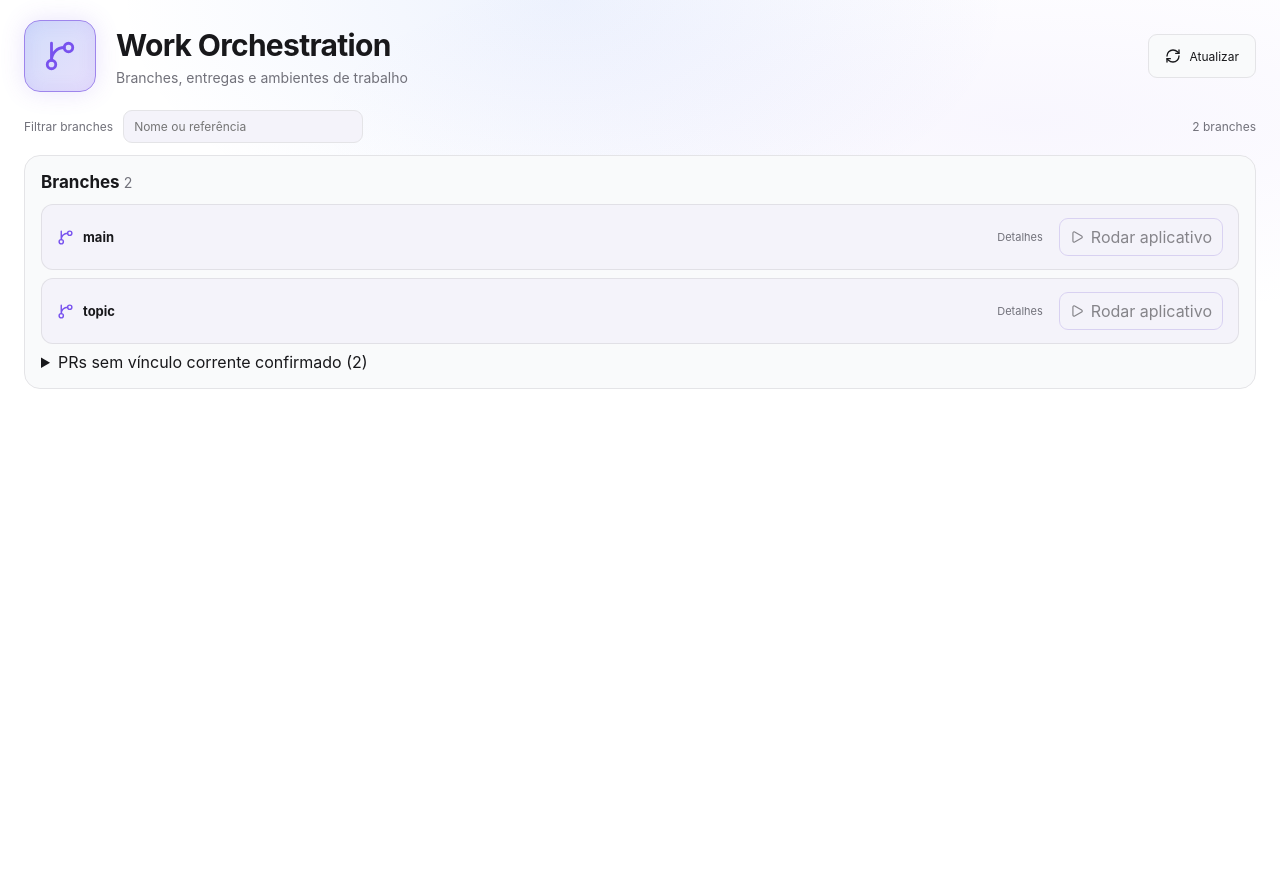
Test: composes catalog and renderer: main receives extinct origins, closed #32 is not integrated and cards retain both directions
Click the text "main".
click(98, 237)  # box [83,229,114,245]
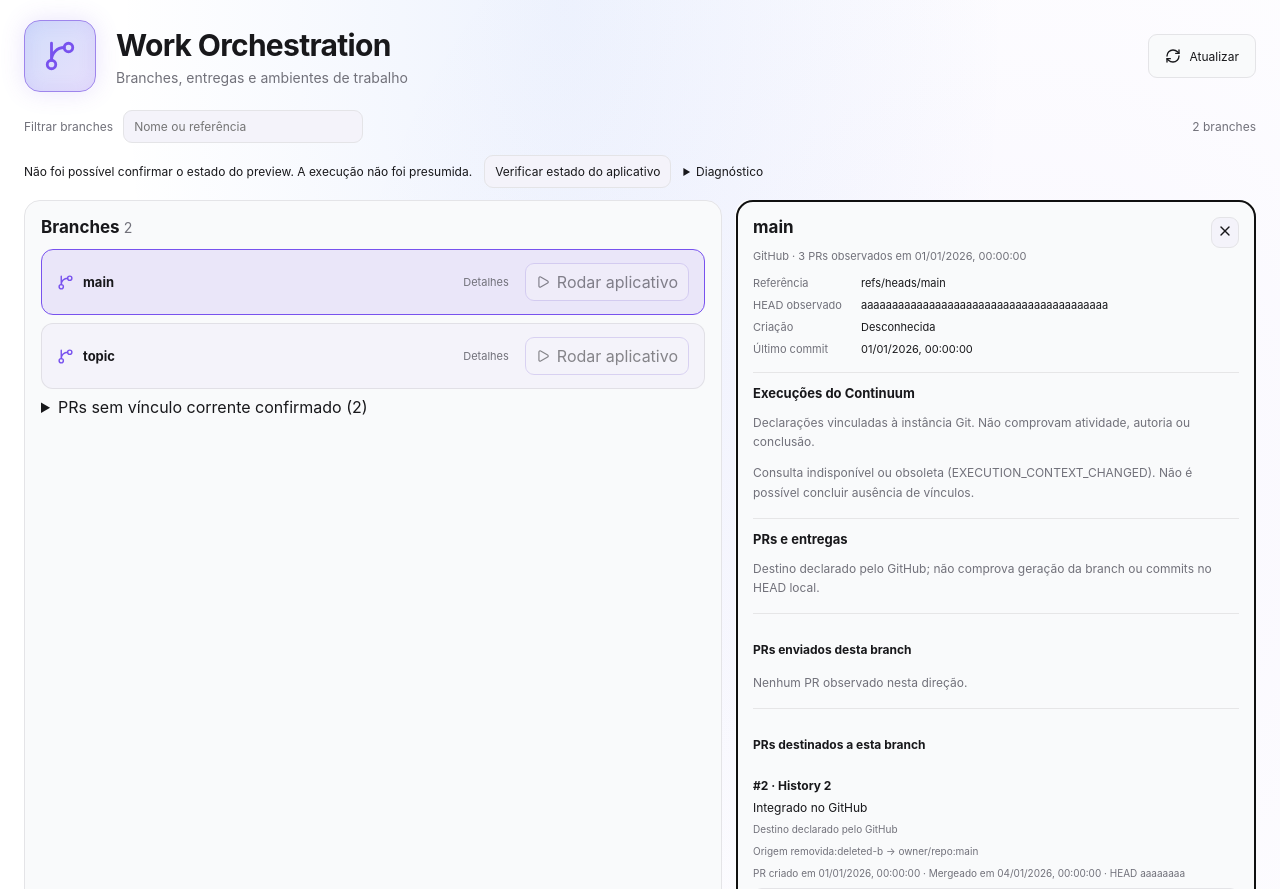
expect the text "Integrado no GitHub" is shown 2 times: met
expect the text "Mergeado em" is shown 2 times: met
expect the text "Nenhum PR observado nesta direção." is shown: met, box [753,675,967,690]
Click the text "topic".
click(99, 356)  # box [83,348,115,364]
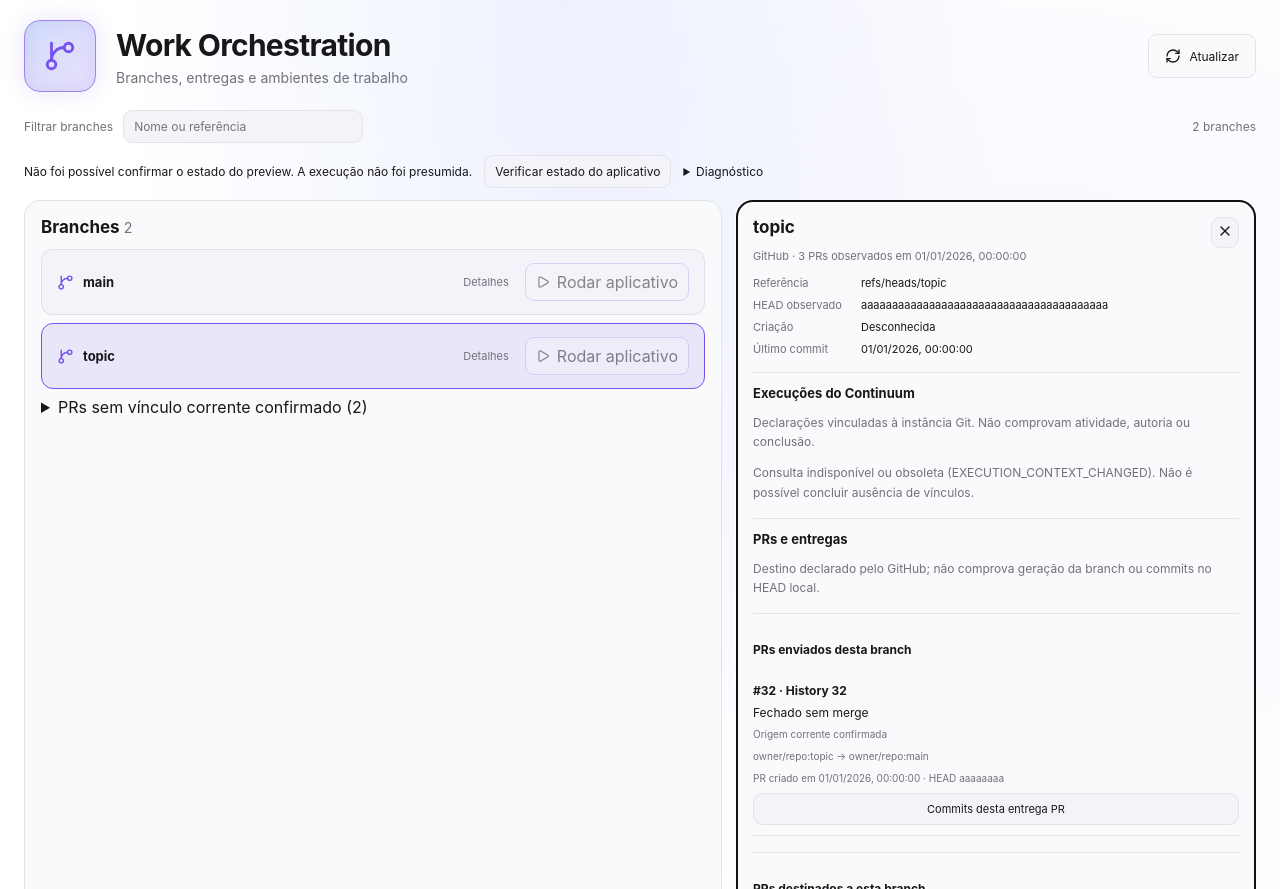
expect the text "Origem corrente confirmada" is shown: met, box [753,728,887,740]
